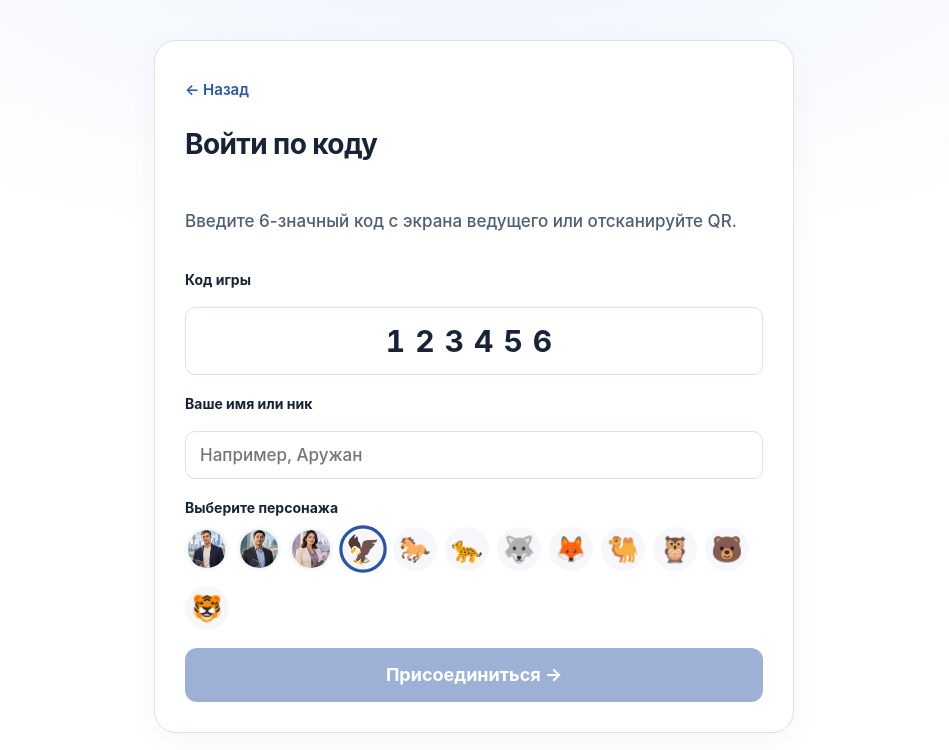
it: joins by code from a QR link and remembers the player token
Expected: the field with placeholder "000000" holds "123456", [185,307,763,375]
Type "Диас" into the field with placeholder "Например, Аружан" at (474, 455), box [185,431,763,479]
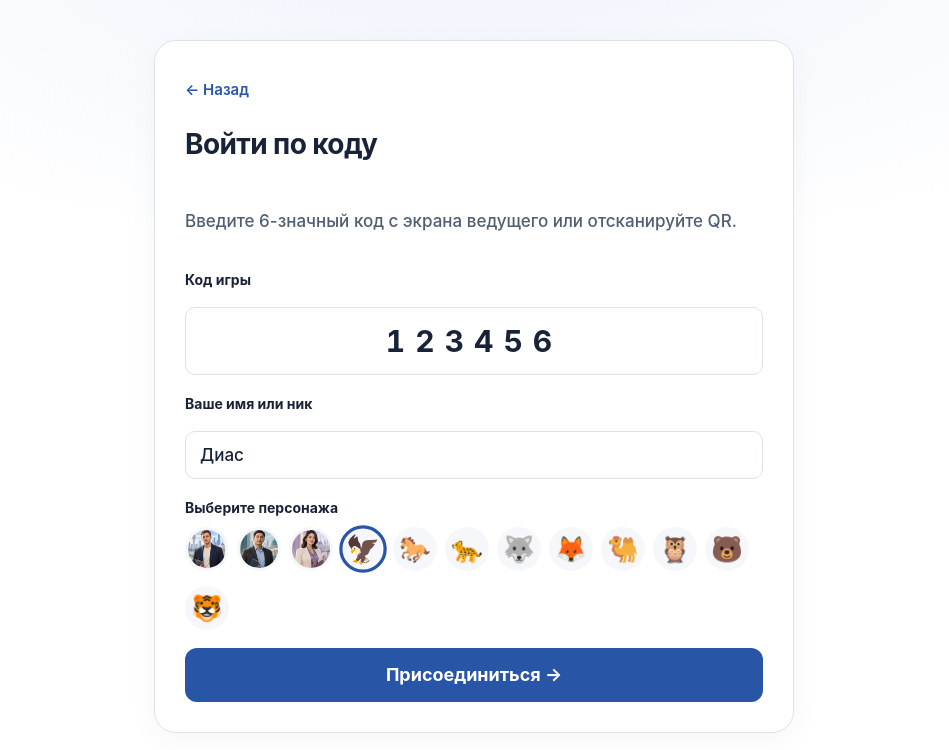
Click the radio button named "wolf" at (519, 553), box [497,527,541,578]
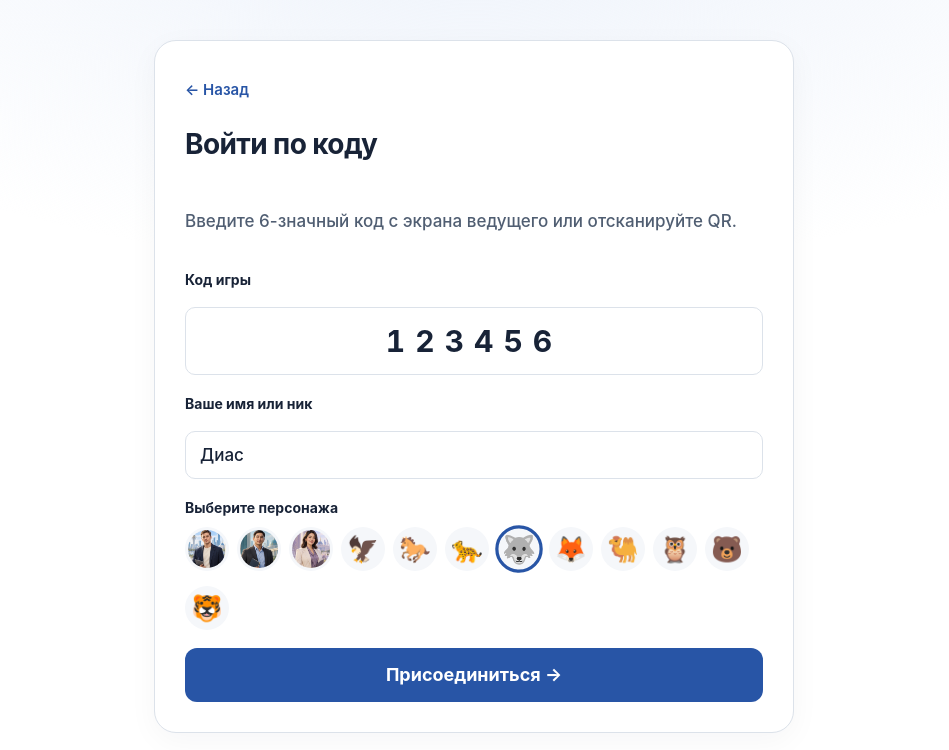
Click the button "Присоединиться →" at (474, 675), box [185,648,763,702]
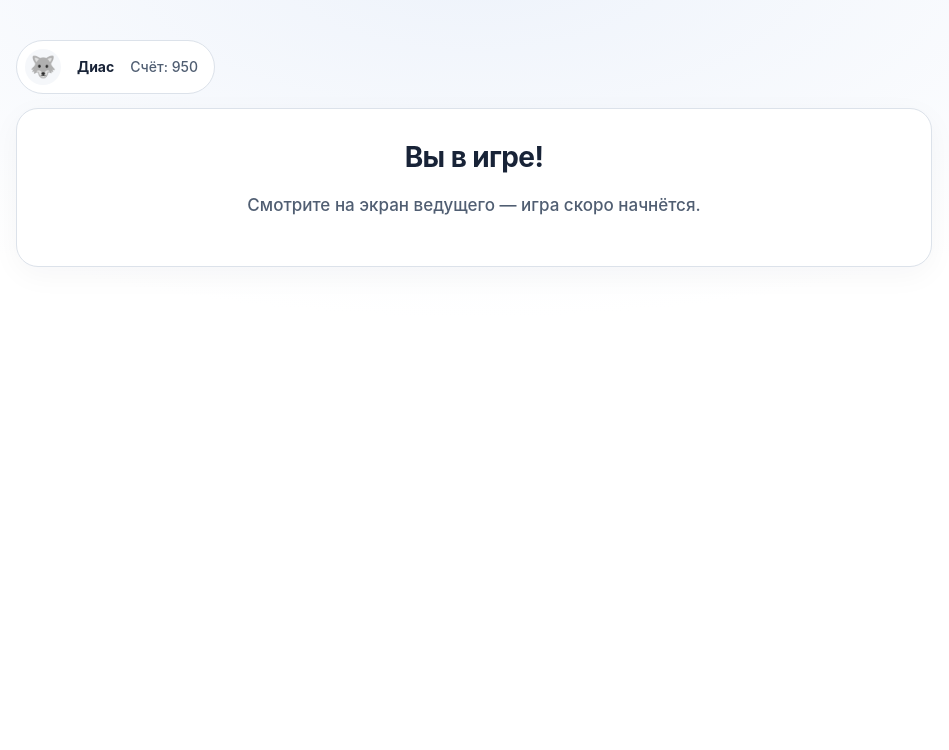
Result: the heading "Вы в игре!" is shown at [405,140,543,174]
